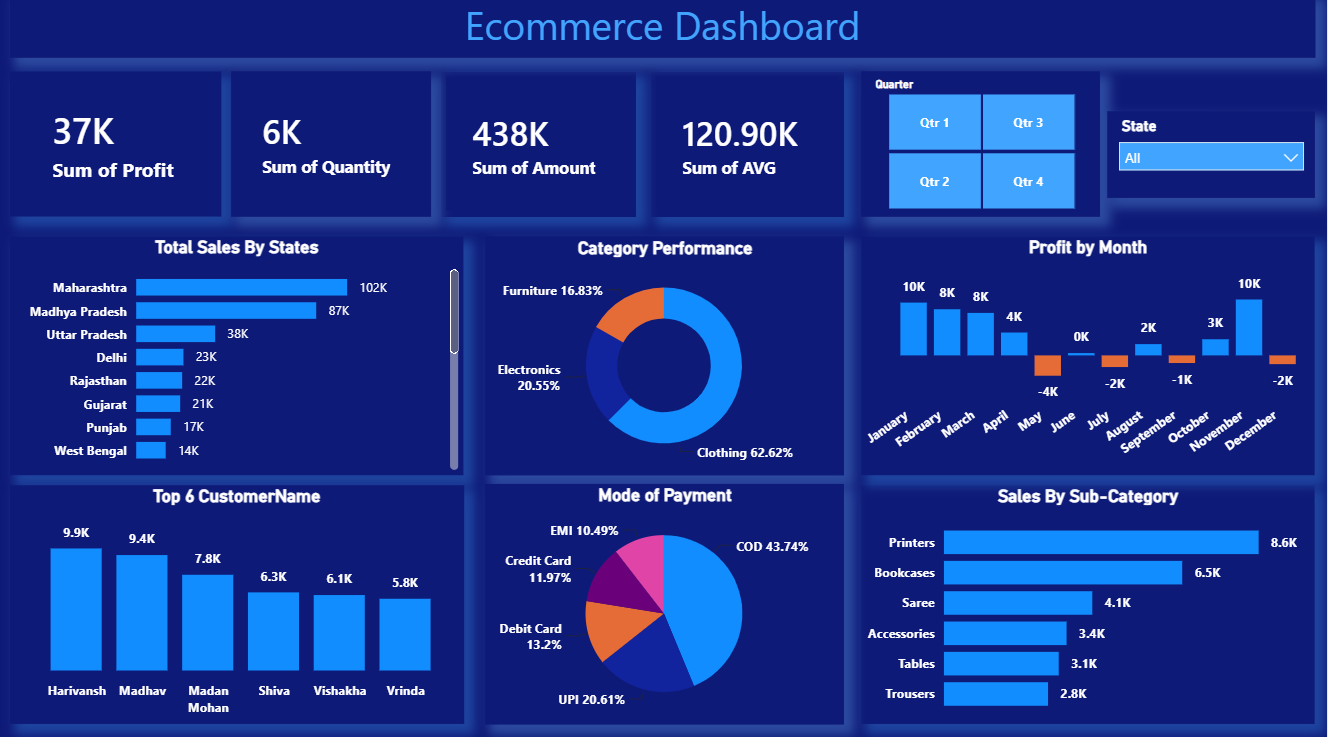

The page's visual inventory and layout, read from the dashboard file:
{"tool":"powerbi","page":{"name":"Page 1","canvas":[1280,720],"ordinal":0},"visuals":[{"type":"textbox","box":[9.6,0,1259.7,61.7],"z":0},{"type":"cardVisual","fields":{"Data":["Sum(Details.Profit)"]},"box":[9.7,74.8,203.9,139.9],"z":1000},{"type":"cardVisual","fields":{"Data":["Sum(Details.Quantity)"]},"box":[223.2,74.8,193,139.9],"z":2000},{"type":"cardVisual","fields":{"Data":["Sum(Details.Amount)"]},"box":[425.9,74.8,188.2,139.9],"z":3000},{"type":"clusteredBarChart","title":"Total Sales By States","fields":{"Y":["Sum(Details.Amount)"],"Category":["Orders.State"]},"box":[9.7,234,437.9,230.4],"z":4000},{"type":"donutChart","title":"Category Performance","fields":{"Y":["Sum(Details.Quantity)"],"Category":["Details.Category"]},"box":[468.1,234,346.2,230.4],"z":5000},{"type":"clusteredBarChart","title":"Sales By Sub-Category","fields":{"Y":["Sum(Details.Profit)"],"Category":["Details.Sub-Category"]},"box":[831.2,474.1,437.9,230.4],"z":6000},{"type":"columnChart","title":"Top 6 CustomerName","fields":{"Category":["Orders.CustomerName"],"Y":["Sum(Details.Amount)"]},"box":[10,474,438,230],"z":7000},{"type":"cardVisual","fields":{"Data":["Sum(Details.AVG)"]},"box":[628.6,74.8,185.8,139.9],"z":8000},{"type":"pieChart","title":"Mode of  Payment","fields":{"Category":["Details.PaymentMode"],"Y":["Sum(Details.Quantity)"],"Series":["Details.PaymentMode"]},"box":[468.1,472.9,346.2,231.6],"z":9000},{"type":"columnChart","title":" Profit by Month","fields":{"Category":["Orders.Order Date.Variation.Date Hierarchy.Month"],"Y":["Sum(Details.Profit)"]},"box":[831.2,234,437.9,230.4],"z":10000},{"type":"slicer","fields":{"Values":["Orders.Order Date.Variation.Date Hierarchy.Quarter"]},"box":[831.2,74.8,230.4,139.9],"z":11000},{"type":"slicer","fields":{"Values":["Orders.State"]},"box":[1068.9,113.4,200.3,83.2],"z":12000}]}

Visuals, with their boxes in screenshot pixels (x1, y1, x2, y2), scaled from the page's 1280x720 canvas onto the 1328x737 screenshot:
textbox: 10/0/1317/63
cardVisual - Sum(Details.Profit): 10/77/222/220
cardVisual - Sum(Details.Quantity): 232/77/432/220
cardVisual - Sum(Details.Amount): 442/77/637/220
"Total Sales By States" clusteredBarChart: 10/240/464/475
"Category Performance" donutChart: 486/240/845/475
"Sales By Sub-Category" clusteredBarChart: 862/485/1317/721
"Top 6 CustomerName" columnChart: 10/485/465/721
cardVisual - Sum(Details.AVG): 652/77/845/220
"Mode of  Payment" pieChart: 486/484/845/721
" Profit by Month" columnChart: 862/240/1317/475
slicer - Orders.Order Date.Variation.Date Hierarchy.Quarter: 862/77/1101/220
slicer - Orders.State: 1109/116/1317/201
